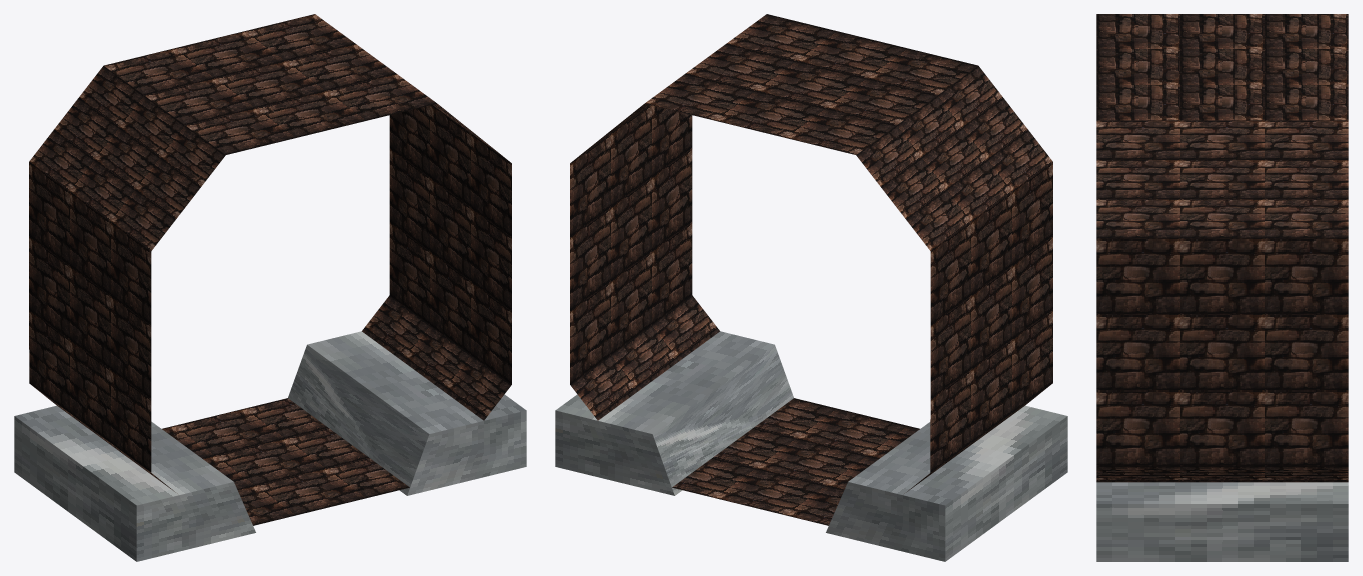
The model's file is pipe1.glb.
3 renders of one model, left to right at view 1: azimuth 30°, elevation 25°; view 2: azimuth 150°, elevation 25°; view 3: azimuth 270°, elevation 25°, orthographic. The views are drawn at different scales.
Parts seen in each view (by area): view 1: Plane.006; view 2: Plane.006; view 3: Plane.006.
Part boxes in pixels (bbox=[...]): Plane.006: bbox=[14, 14, 526, 561]; Plane.006: bbox=[555, 14, 1067, 561]; Plane.006: bbox=[1096, 14, 1348, 561].
Bounding box in the file's own units: 3.68 × 3.47 × 2.
Materials: 3 (3 with a texture image).
